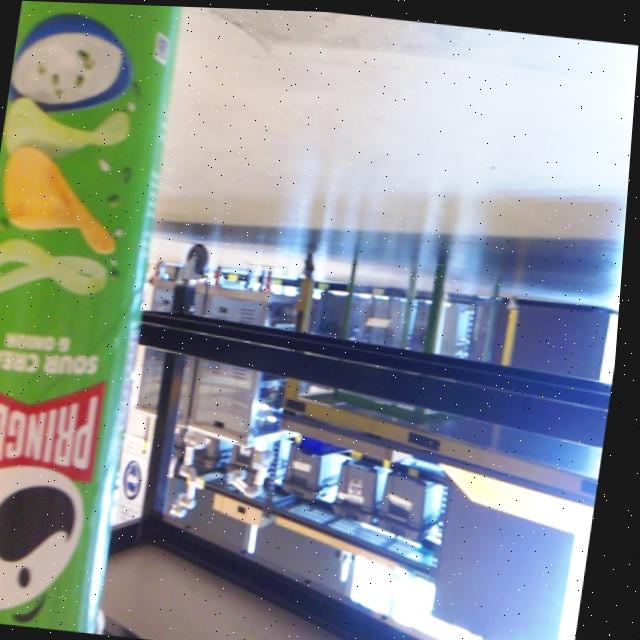greenpringles: (0, 0, 204, 635)
